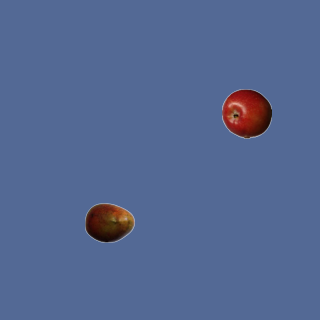Apple Braeburn: (221, 88, 271, 138)
Mango Red: (84, 197, 134, 247)
